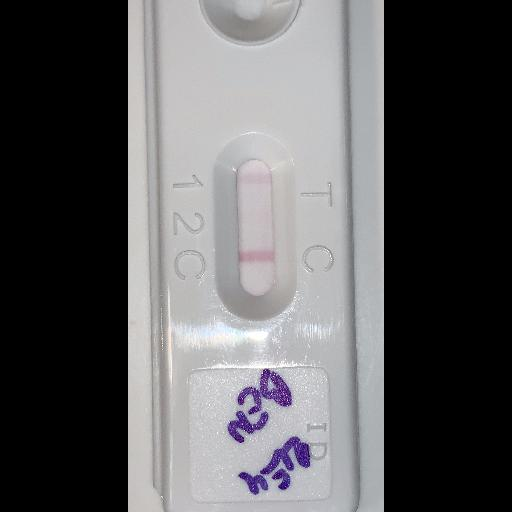Pos: (145, 0, 352, 511)
